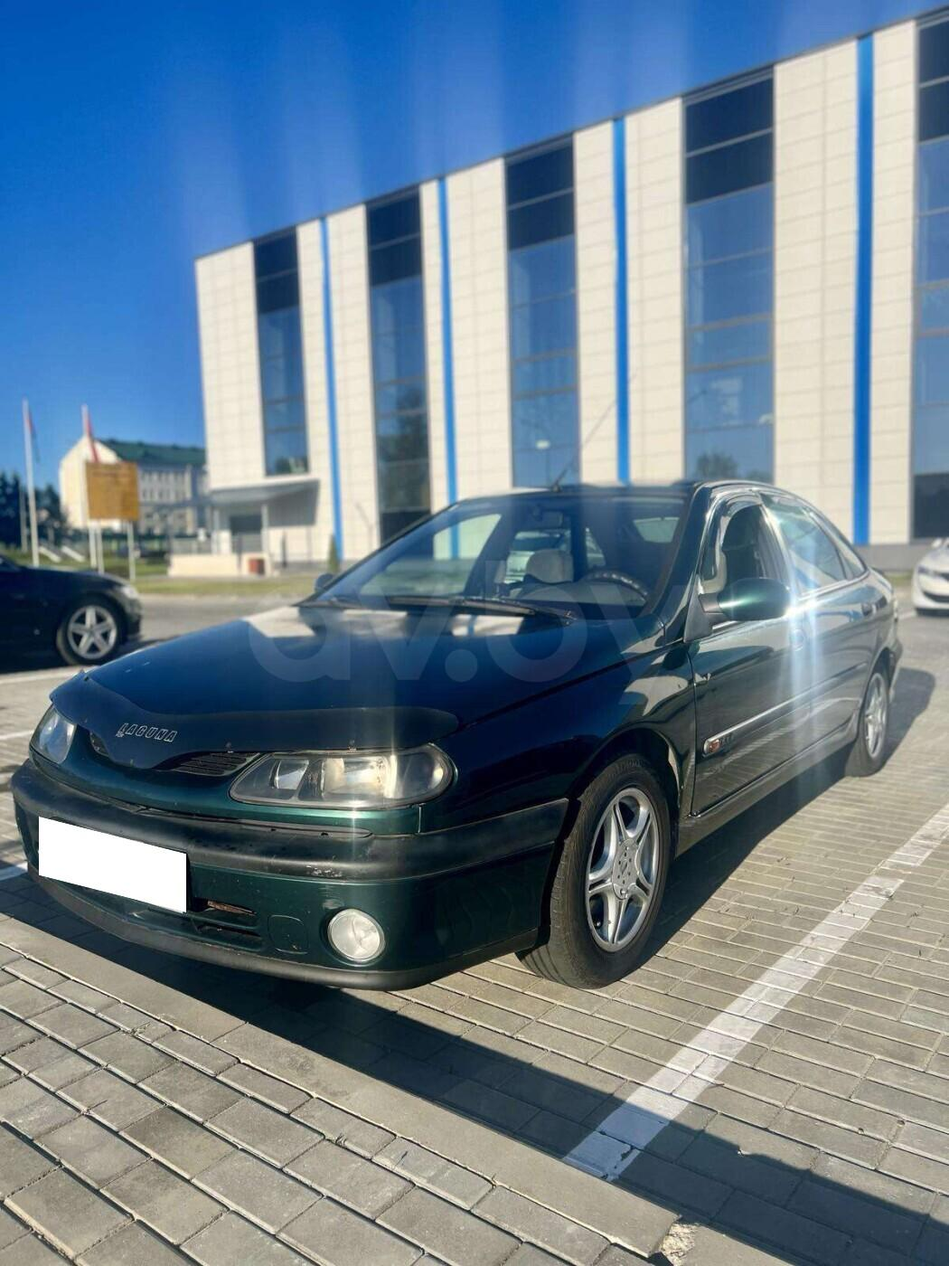Laguna_1998-2001: (4, 476, 906, 980)
